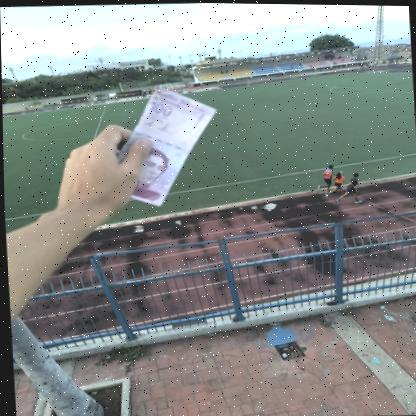one_hundred-front-vef: (112, 85, 222, 208)
